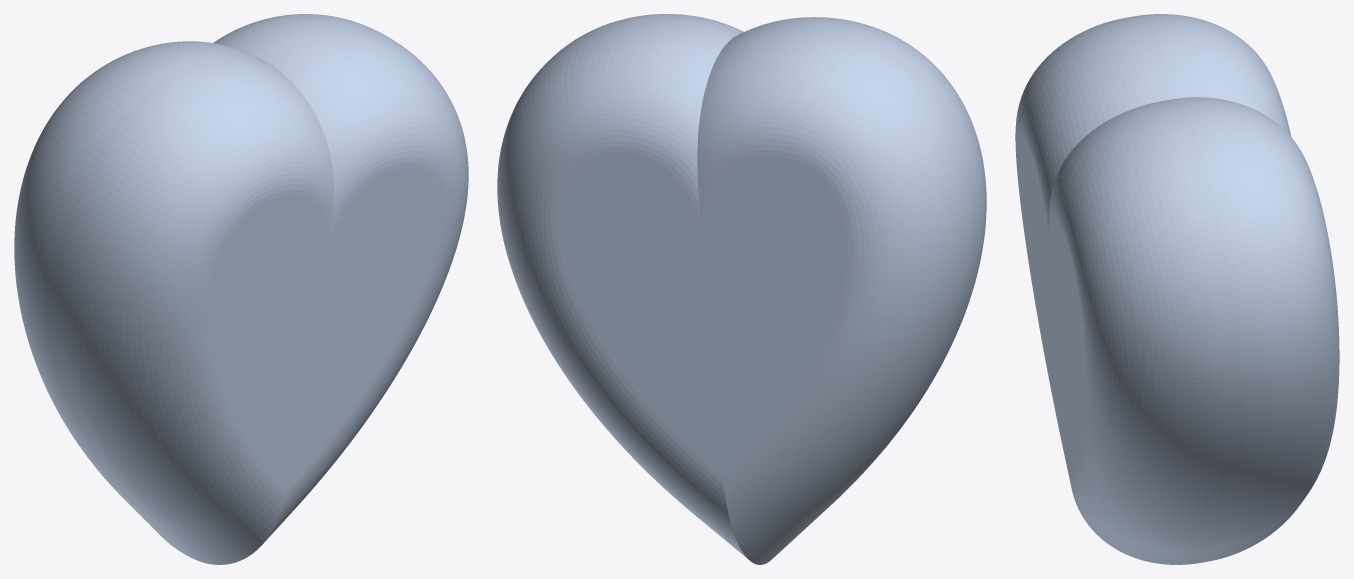
Rendered from heart-silver.glb.
3 views of the same model, side by side, from view 1: azimuth 30°, elevation 25°; view 2: azimuth 150°, elevation 25°; view 3: azimuth 270°, elevation 25° (orthographic).
Visible parts, largest first — view 1: heart; view 2: heart; view 3: heart.
Part boxes in pixels (x1,y1,x2,y2): heart: (14,14,468,564); heart: (497,14,986,564); heart: (1015,14,1339,564).
Bounding box in the file's own units: 1.57 × 1.8 × 1.01.
